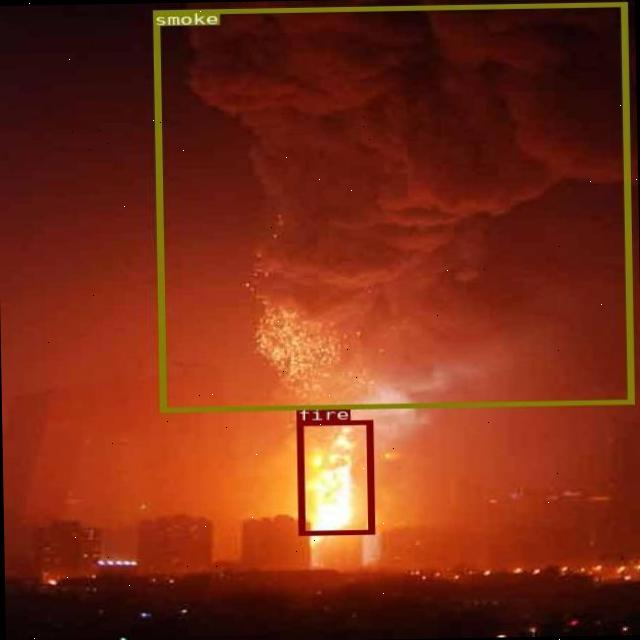fire: (296, 420, 372, 534)
smoke: (152, 1, 632, 412)
